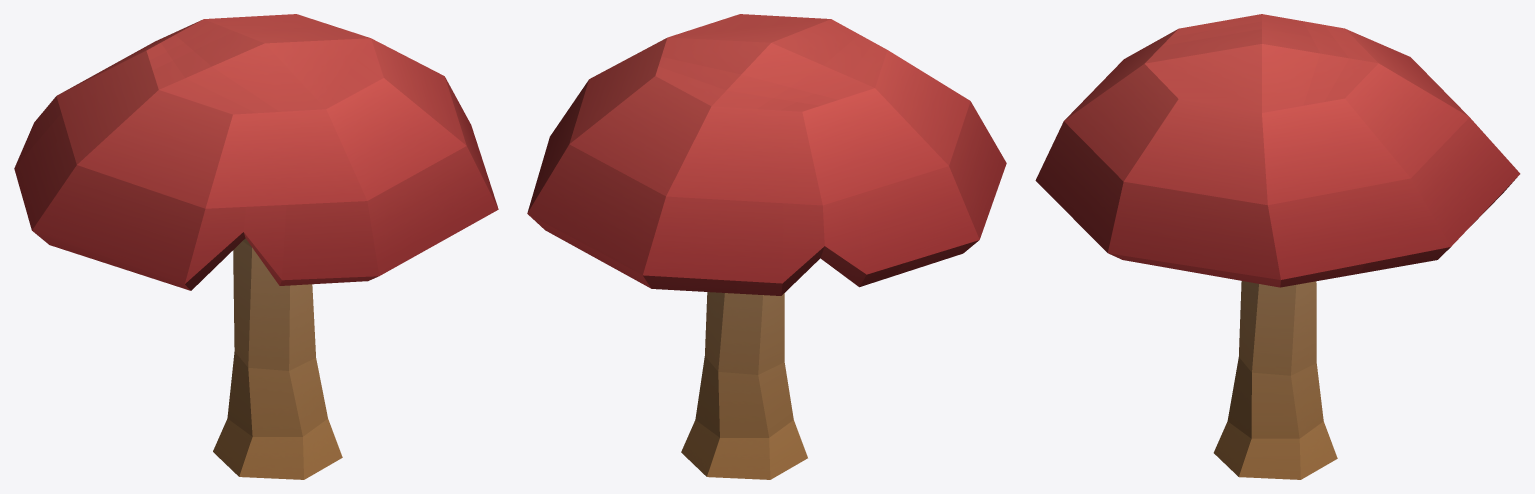
The model's file is grzyb6.fbx.
3 renders of one model, left to right at view 1: azimuth 30°, elevation 25°; view 2: azimuth 150°, elevation 25°; view 3: azimuth 270°, elevation 25°, orthographic. The views are drawn at different scales.
Visible parts, largest first — view 1: grzyb6, Circle.005; view 2: grzyb6, Circle.005; view 3: grzyb6, Circle.005.
Boxes of the visible parts, bbox=[...] form: grzyb6: bbox=[14, 14, 498, 290]; Circle.005: bbox=[213, 238, 342, 479]; grzyb6: bbox=[527, 14, 1006, 295]; Circle.005: bbox=[681, 292, 807, 479]; grzyb6: bbox=[1035, 14, 1520, 287]; Circle.005: bbox=[1213, 281, 1337, 479].
Bounding box in the file's own units: 744 × 682 × 744.
